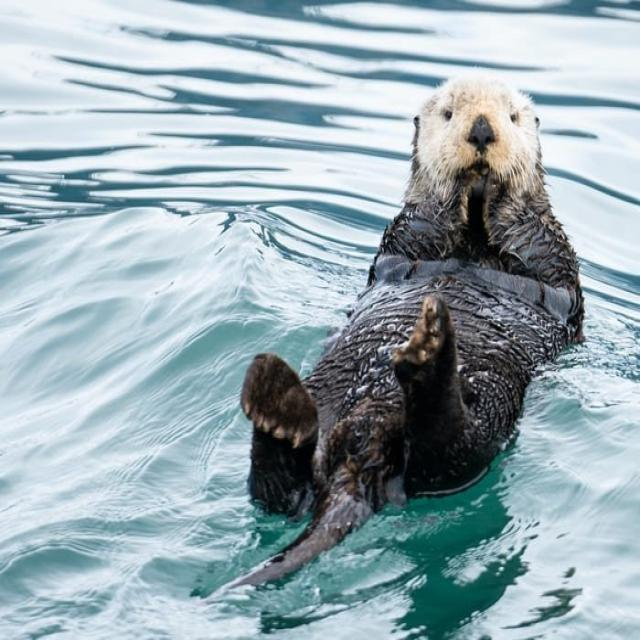Otter: (220, 62, 586, 572)
